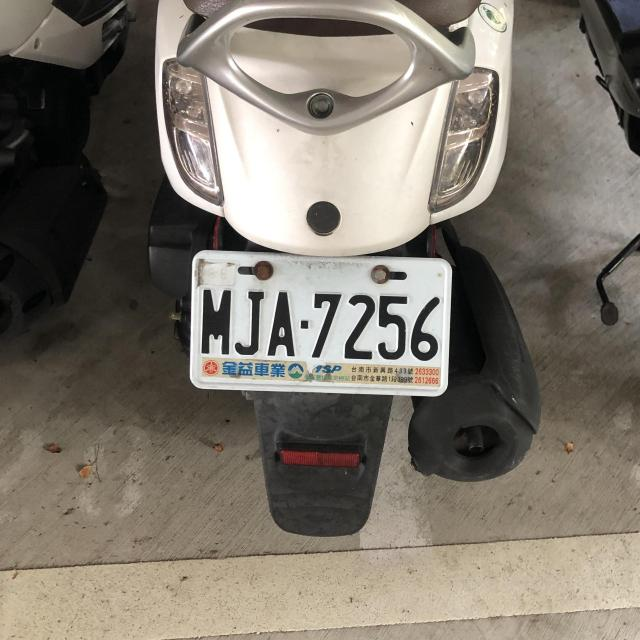W: (182, 247, 454, 397)
